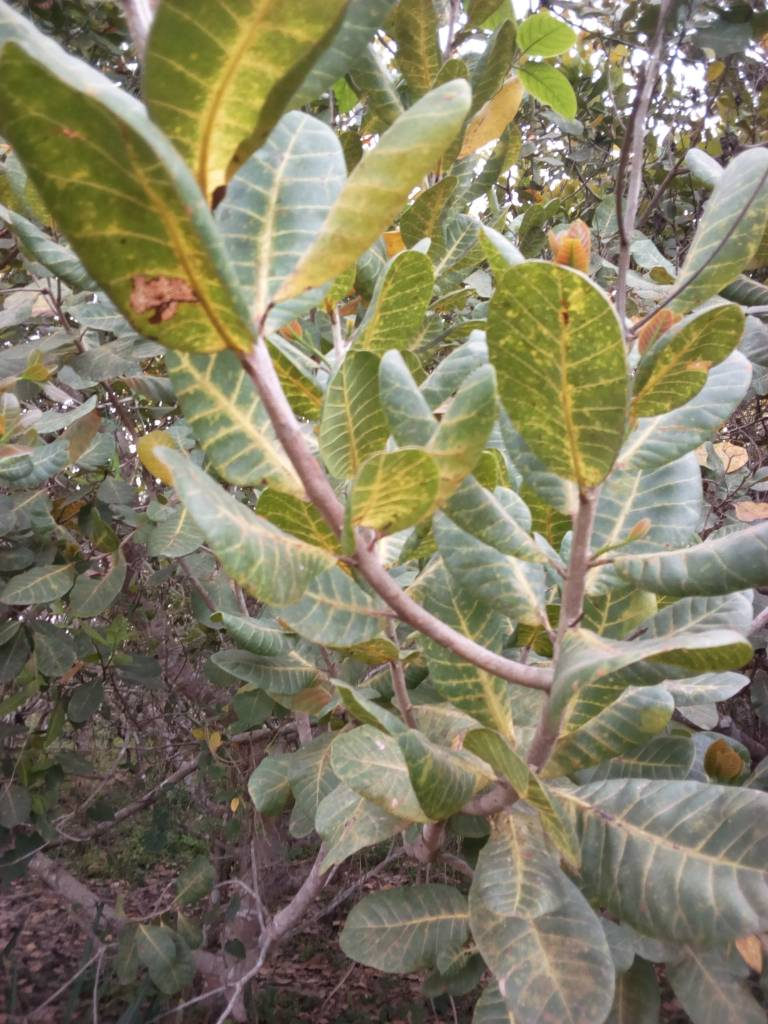Carence minérale: (480, 252, 654, 488), (638, 146, 768, 380)
